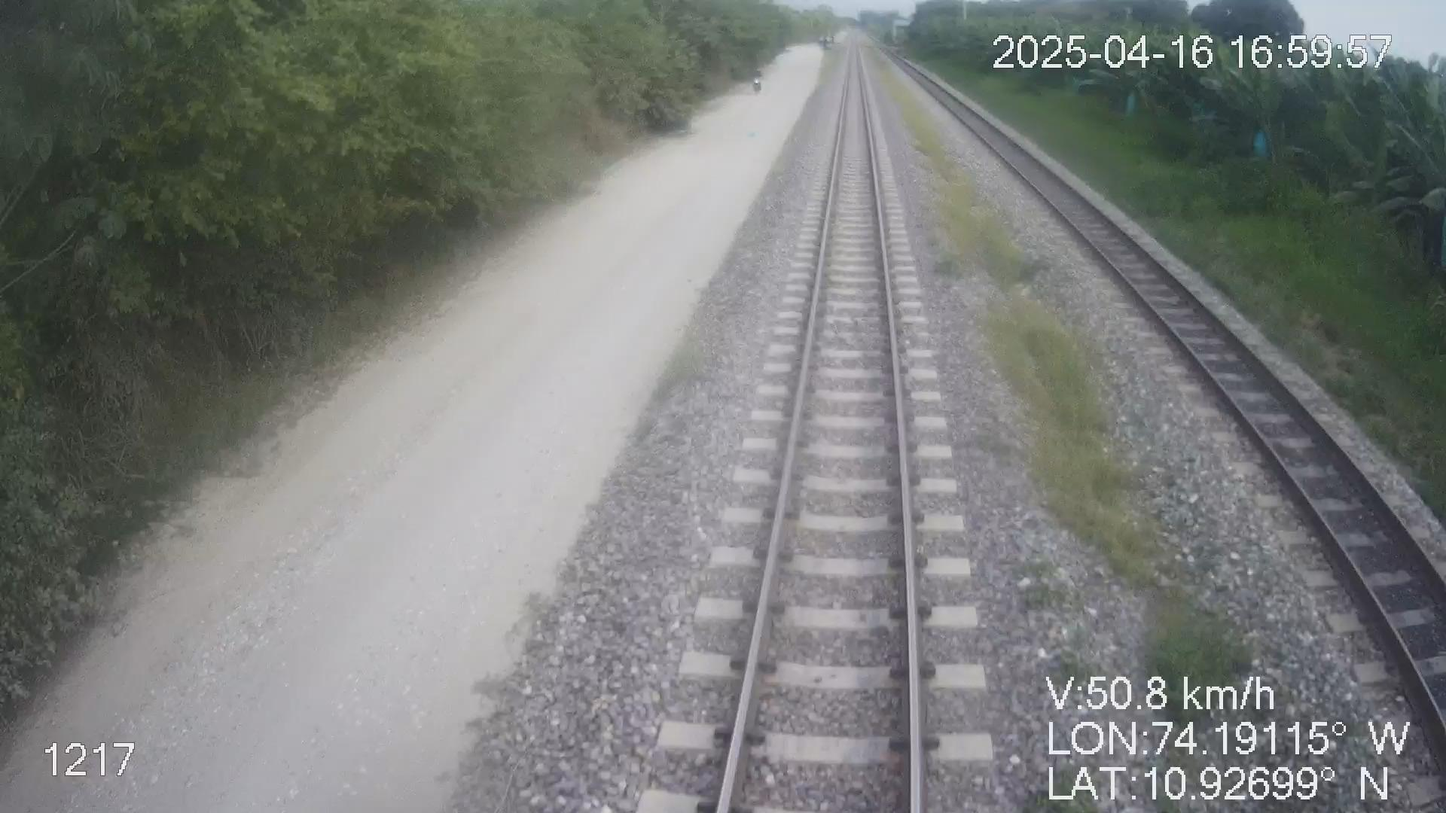Pasto: (0, 0, 795, 748), (892, 0, 1445, 532)
